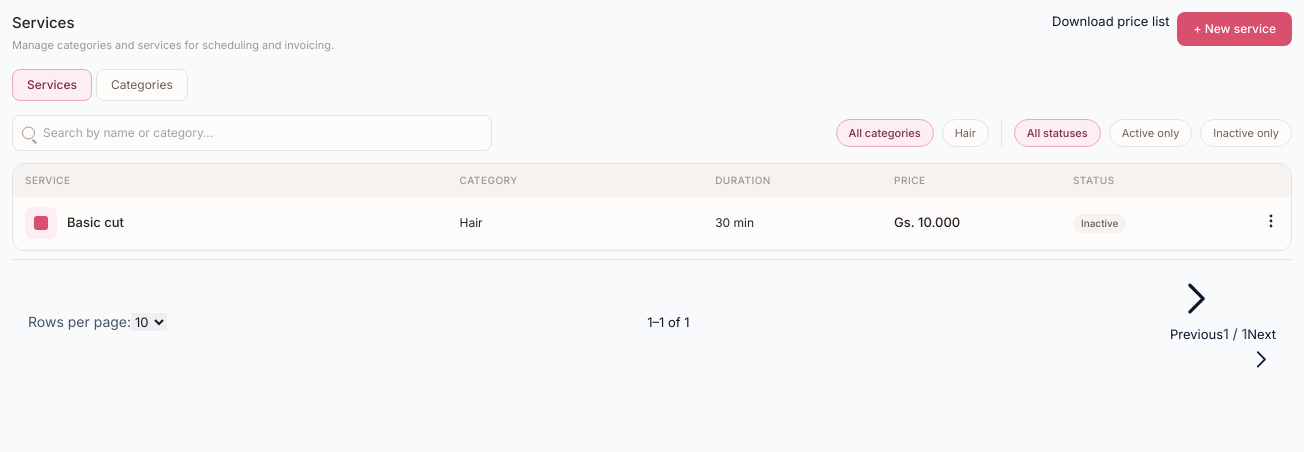
Test: ServicesPage › issue #217: shows an error alert when the price-list PDF download fails
Expected: the text "Basic cut" is shown, [67,213,124,233]
Click the button with test id "download-price-list-button".
click(1111, 22)  # box [1052,12,1170,32]
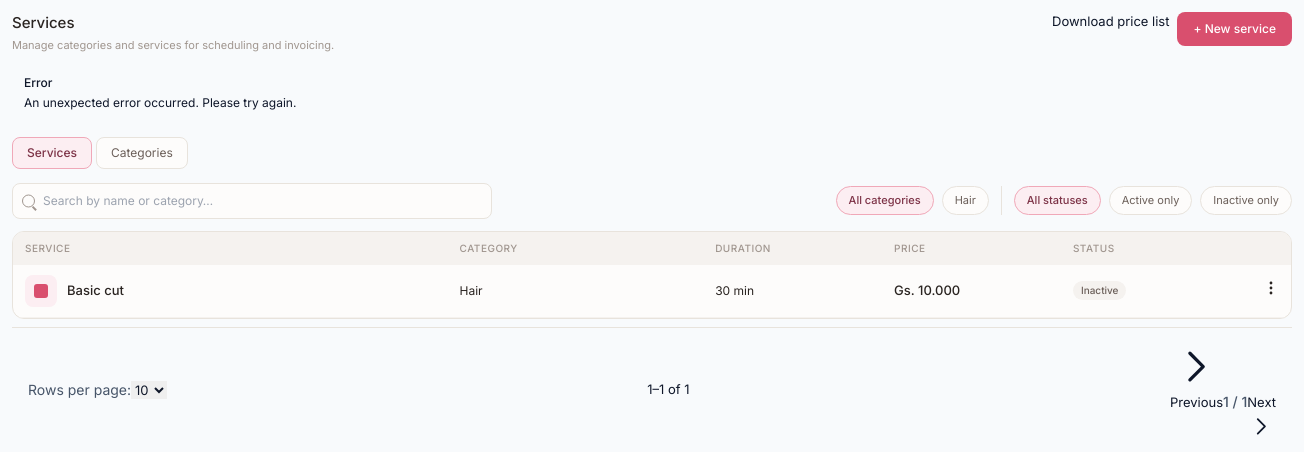
Expected: the message "Error An unexpected error occurred. Please try again." is shown, [24,75,296,110]
